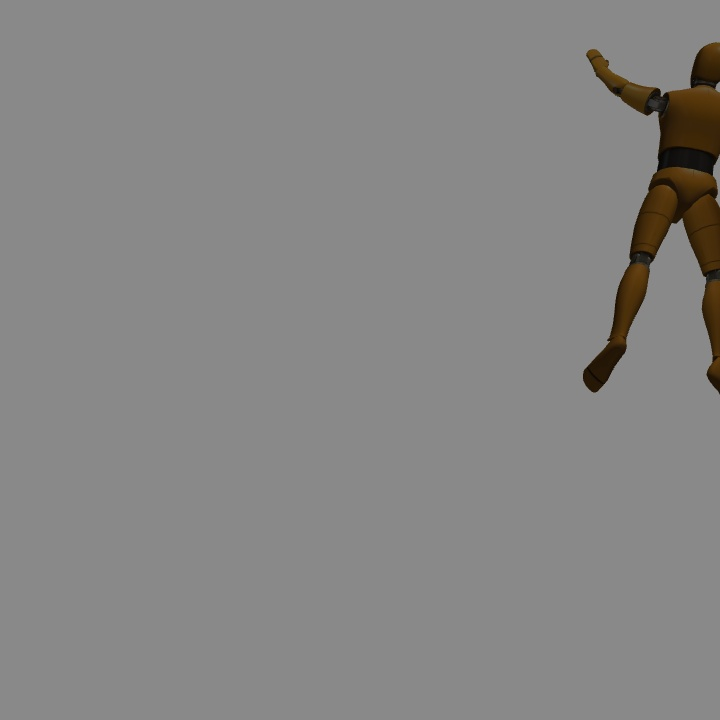victim: (585, 42, 718, 392)
